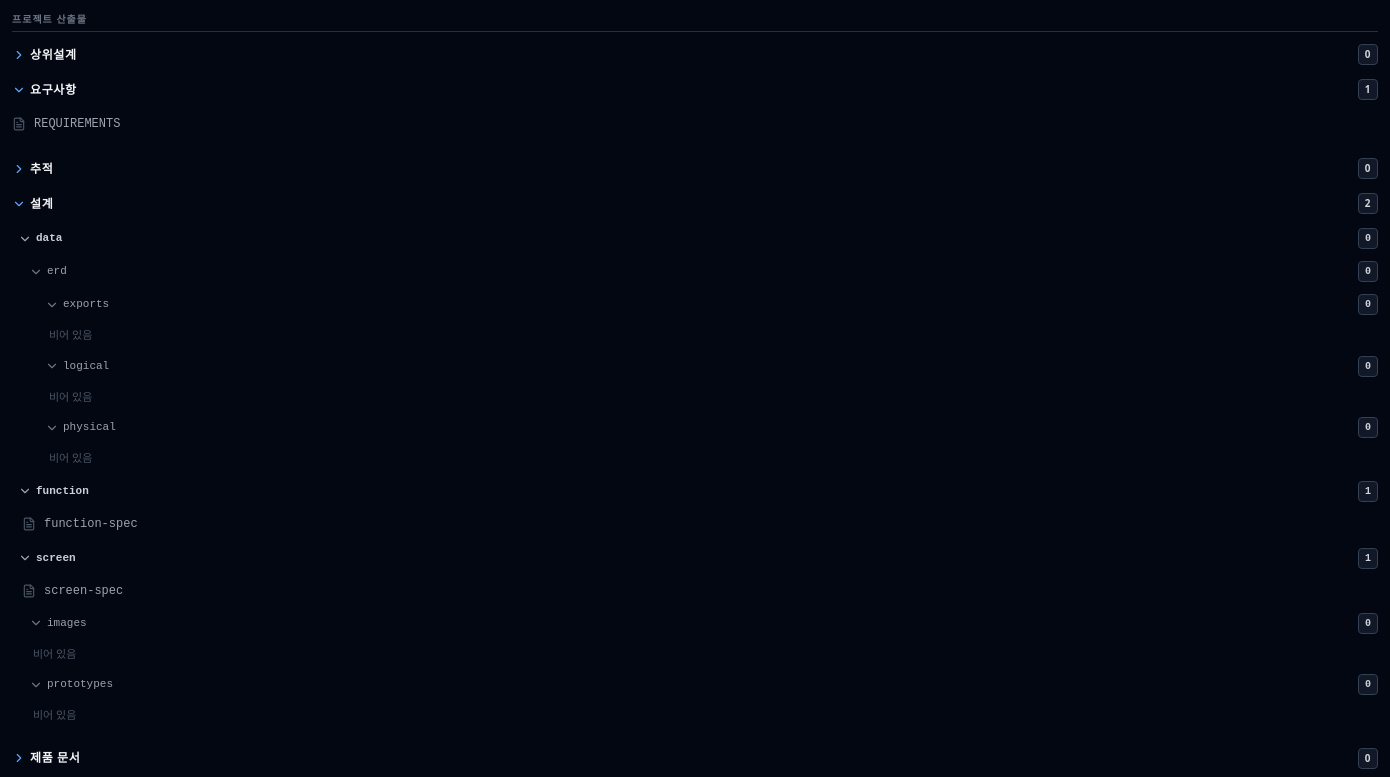
Scenario: DocList › 카테고리 토글 버튼 클릭 시 문서 목록이 접힌다
The width and height of the screenshot is (1390, 777).
Expected: the text "REQUIREMENTS" is shown, [34,117,120,131]
Click the button with test id "doc-category-toggle-requirements": [53, 89] box [12,75,1378,104]
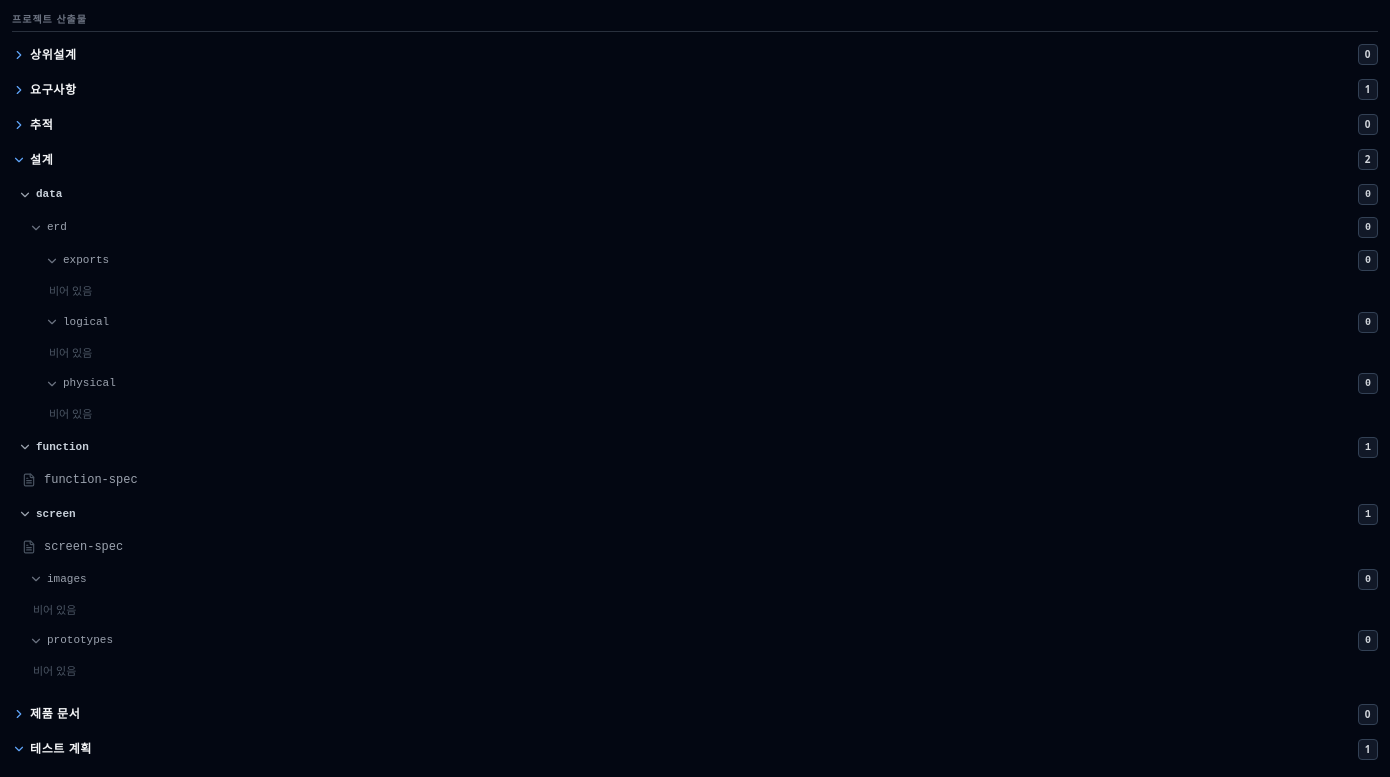
Result: the text "REQUIREMENTS" is gone
